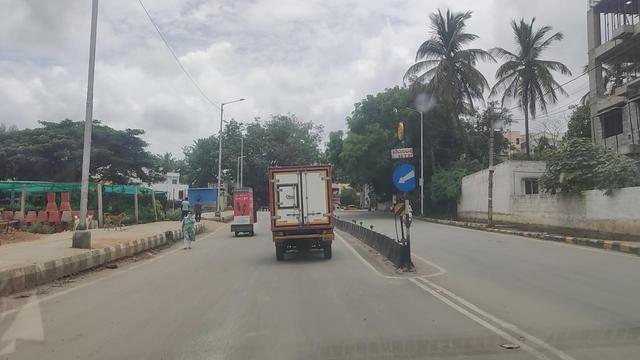HMV: (268, 158, 343, 269)
LMV: (224, 180, 257, 242)
